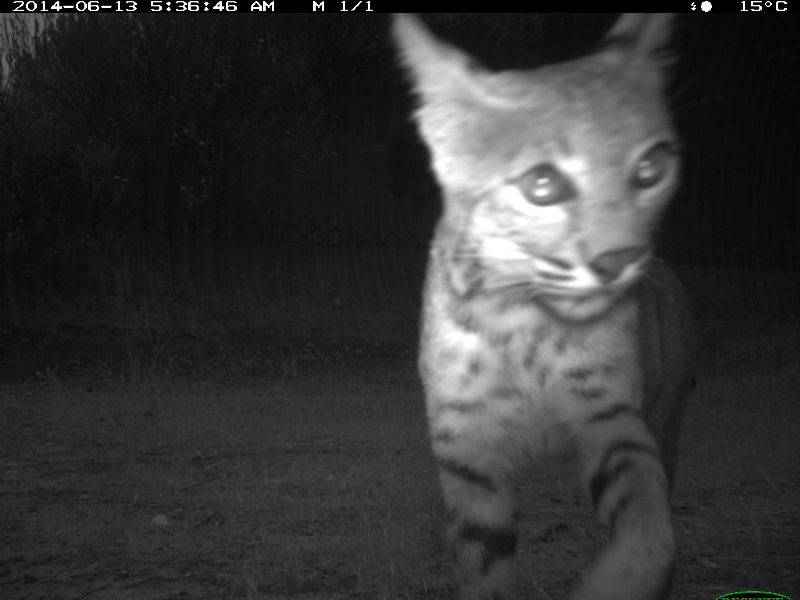cat: (386, 16, 706, 595)
